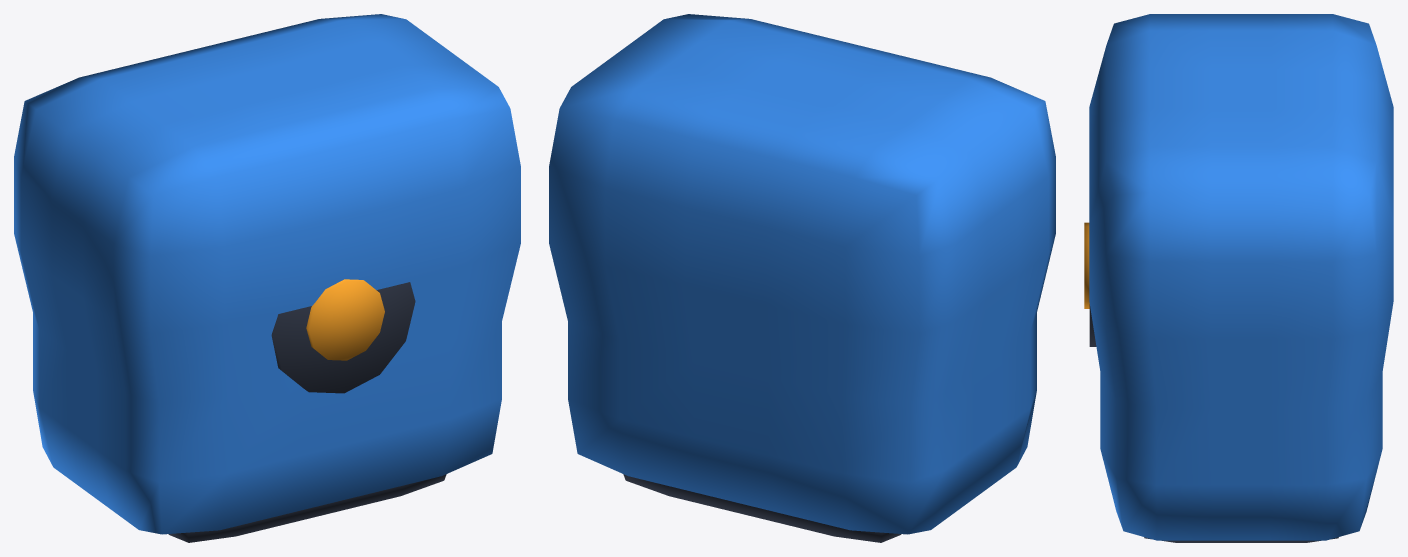
The model's file is torso_scrap.obj.
3 renders of one model, left to right at view 1: azimuth 30°, elevation 25°; view 2: azimuth 150°, elevation 25°; view 3: azimuth 270°, elevation 25°, orthographic.
Bounding box in the file's own units: 0.8424 × 0.81 × 0.5708.
